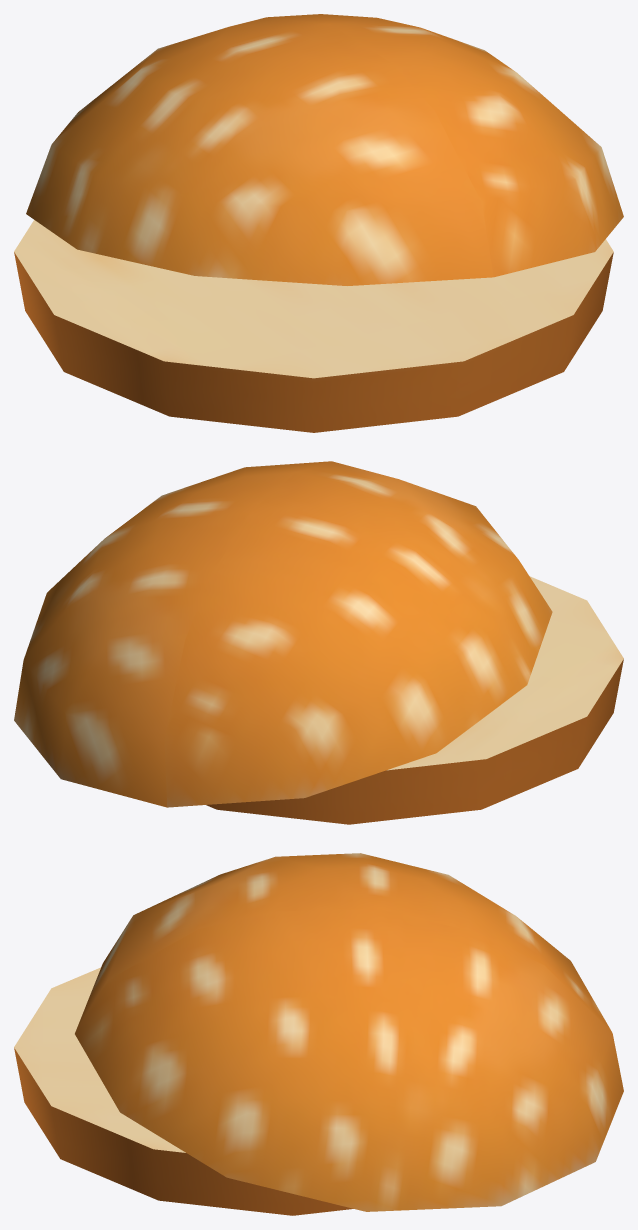
Rendered from DoubleCooked_BreadBurger.fbx.
3 views of the same model, one above another, from view 1: azimuth 30°, elevation 25°; view 2: azimuth 150°, elevation 25°; view 3: azimuth 270°, elevation 25° (orthographic). The views are drawn at different scales.
Parts seen in each view (by area): view 1: DoubleCooked_BreadBurger; view 2: DoubleCooked_BreadBurger; view 3: DoubleCooked_BreadBurger.
Boxes of the visible parts, x1,y1,x2,y2 form: DoubleCooked_BreadBurger: (14,14,623,432); DoubleCooked_BreadBurger: (14,461,623,824); DoubleCooked_BreadBurger: (14,853,623,1215).
Bounding box in the file's own units: 11.6 × 4.83 × 11.81.
Materials: 1 (1 with a texture image).
